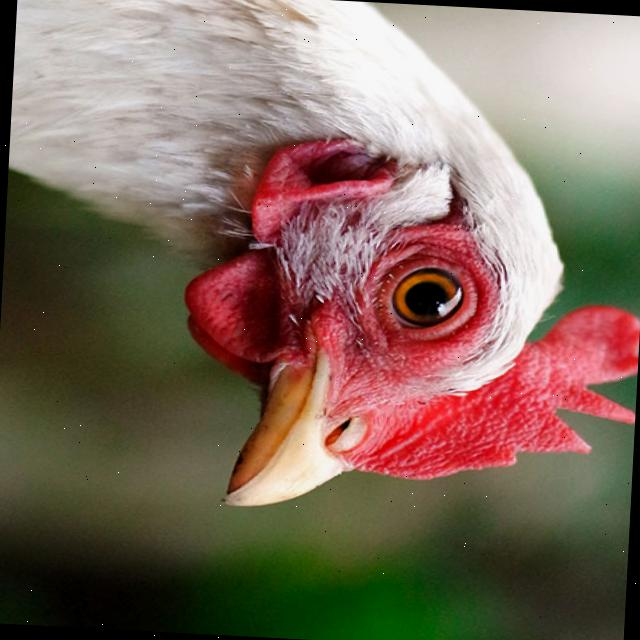Healthy: (0, 0, 640, 527)
